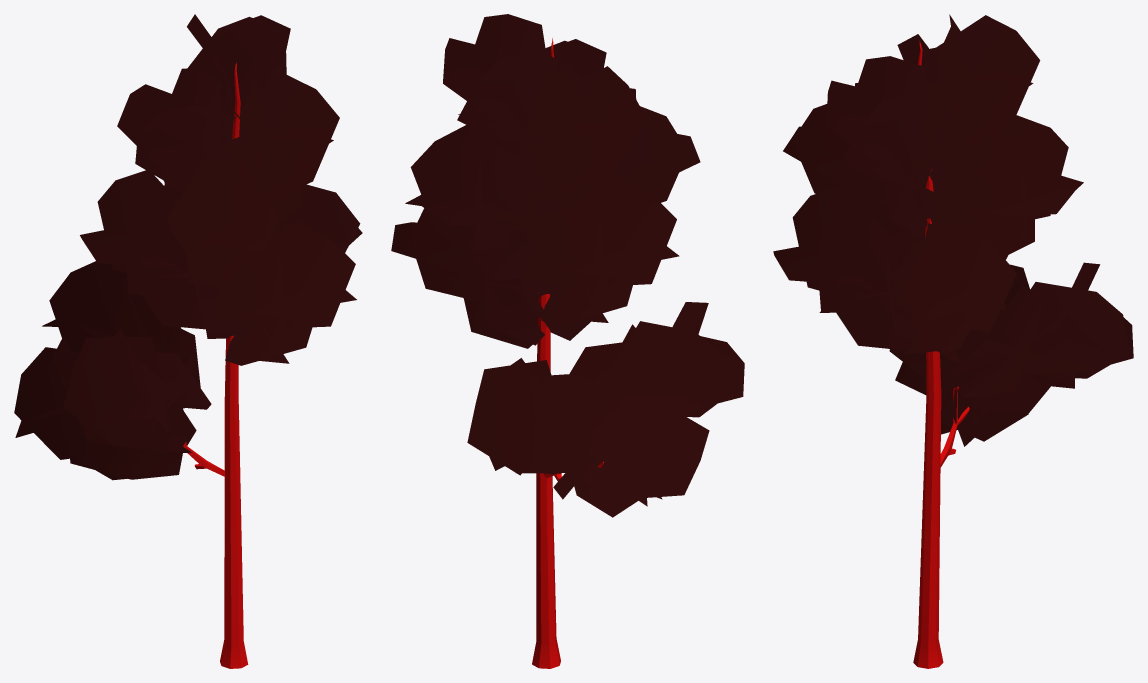
Rendered from SM_Tree_Birch_04.fbx.
3 views of the same model, side by side, from view 1: azimuth 30°, elevation 25°; view 2: azimuth 150°, elevation 25°; view 3: azimuth 270°, elevation 25° (orthographic). The views are drawn at different scales.
Visible parts, largest first — view 1: SM_Tree_Birch_04; view 2: SM_Tree_Birch_04; view 3: SM_Tree_Birch_04.
Part boxes in pixels (x1,y1,x2,y2): SM_Tree_Birch_04: (14, 14, 362, 668); SM_Tree_Birch_04: (391, 14, 744, 668); SM_Tree_Birch_04: (773, 14, 1133, 668).
Size of the model in its own units: 252 by 489 by 246.
